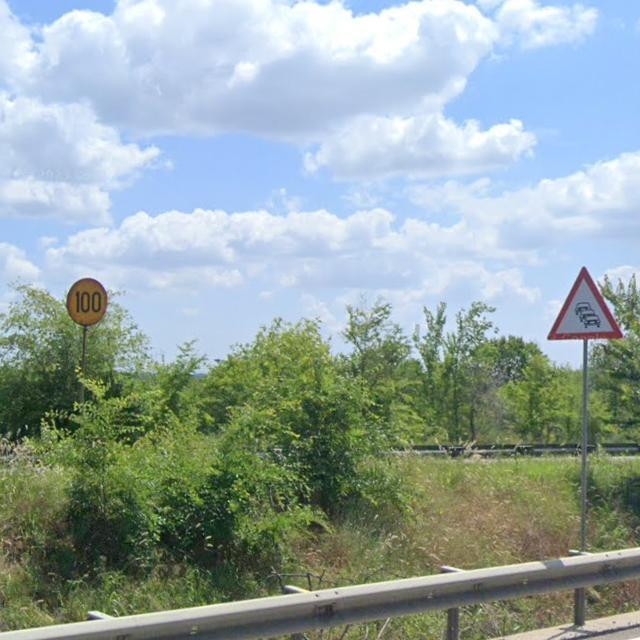forb_speed_over_100: (66, 279, 108, 326)
